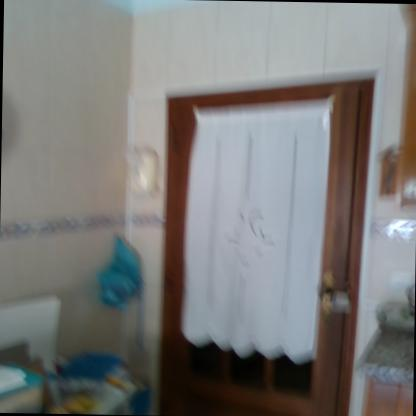closed: (148, 59, 387, 415)
